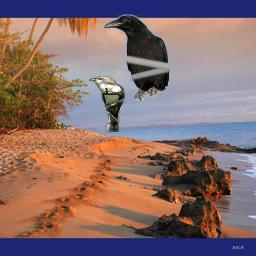Crow: (103, 14, 170, 101)
Cuckoo: (89, 76, 125, 132)
